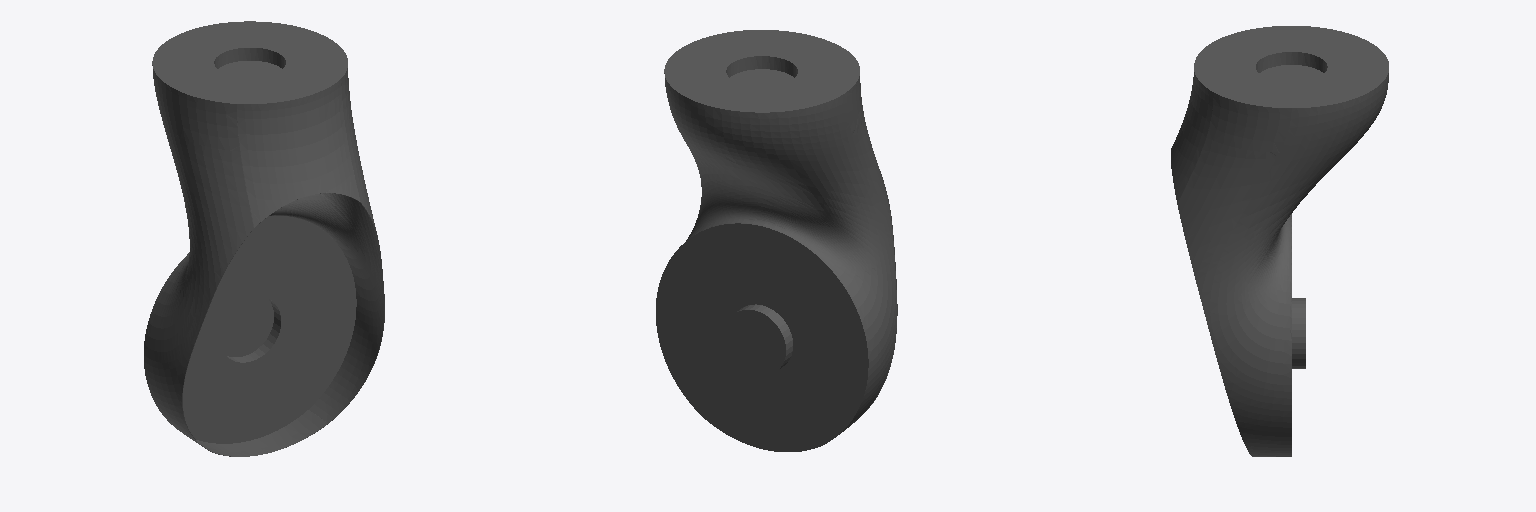
Rendered from link_2_grey.obj.
3 renders of one model, left to right at view 1: azimuth 30°, elevation 25°; view 2: azimuth 150°, elevation 25°; view 3: azimuth 270°, elevation 25°, orthographic.
Bounding box in the file's own units: 0.171 × 0.29 × 0.1523.